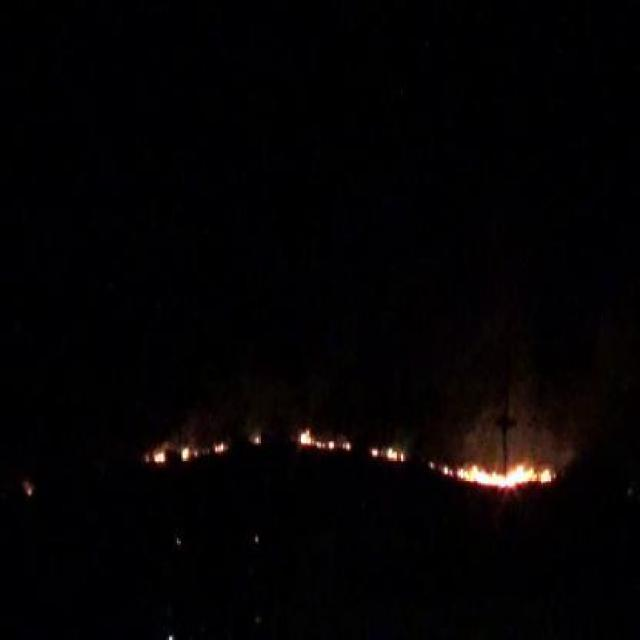Fire: (444, 468, 553, 494), (298, 427, 351, 455), (370, 447, 404, 461), (152, 450, 166, 464), (182, 446, 196, 460), (212, 442, 223, 453), (252, 432, 260, 446)
